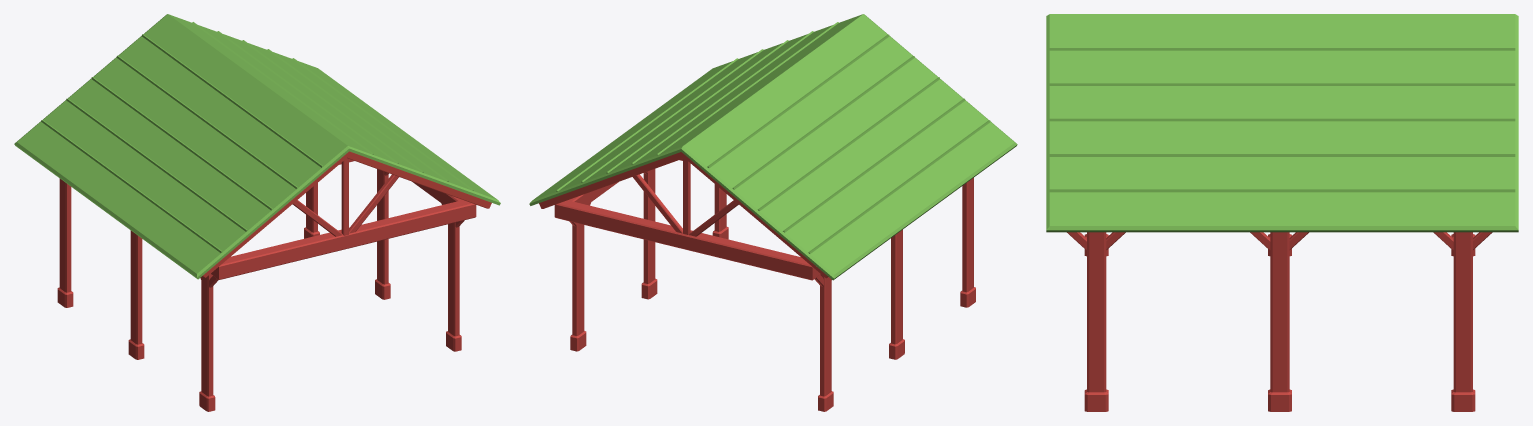
The model's file is structures_a02.gltf.
The picture shows the model from 3 angles, left to right: view 1: azimuth 30°, elevation 25°; view 2: azimuth 150°, elevation 25°; view 3: azimuth 270°, elevation 25°; orthographic projection. The views are drawn at different scales.
Visible parts, largest first — view 1: structures_a02_001; view 2: structures_a02_001; view 3: structures_a02_001.
Boxes of the visible parts, <box> form: structures_a02_001: <box>14,14,500,411</box>; structures_a02_001: <box>529,14,1017,411</box>; structures_a02_001: <box>1046,14,1518,411</box>.
Bounding box in the file's own units: 6.4 × 4.94 × 6.67.
1 material, 1 textured.
